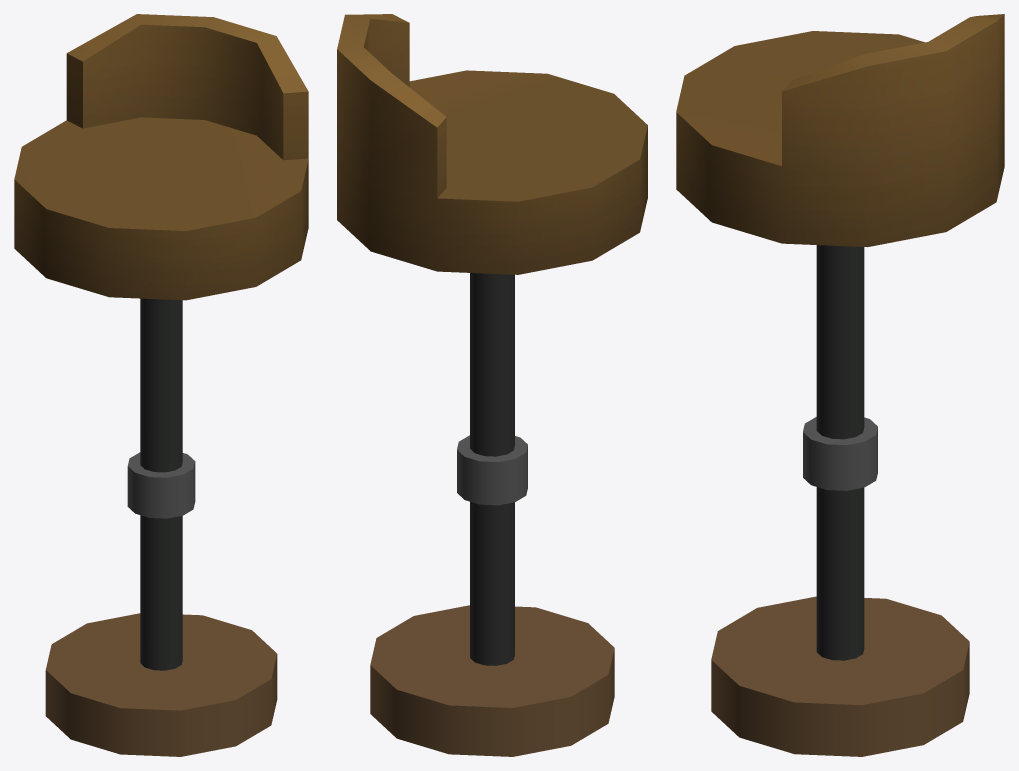
Rendered from SM_Prop_BarChair_02.obj.
3 views of the same model, side by side, from view 1: azimuth 30°, elevation 25°; view 2: azimuth 150°, elevation 25°; view 3: azimuth 270°, elevation 25° (orthographic). The views are drawn at different scales.
Parts seen in each view (by area): view 1: SM_Prop_BarChair_02_Mat_SwatchOverlay_Farm_01_Inst; view 2: SM_Prop_BarChair_02_Mat_SwatchOverlay_Farm_01_Inst; view 3: SM_Prop_BarChair_02_Mat_SwatchOverlay_Farm_01_Inst.
Part boxes in pixels (box(x1,y1,x2,y2)): SM_Prop_BarChair_02_Mat_SwatchOverlay_Farm_01_Inst: box(14, 14, 308, 756); SM_Prop_BarChair_02_Mat_SwatchOverlay_Farm_01_Inst: box(337, 14, 647, 756); SM_Prop_BarChair_02_Mat_SwatchOverlay_Farm_01_Inst: box(676, 14, 1004, 756).
Size of the model in its own units: 0.4377 by 1.04 by 0.4377.
1 material, 1 textured.
